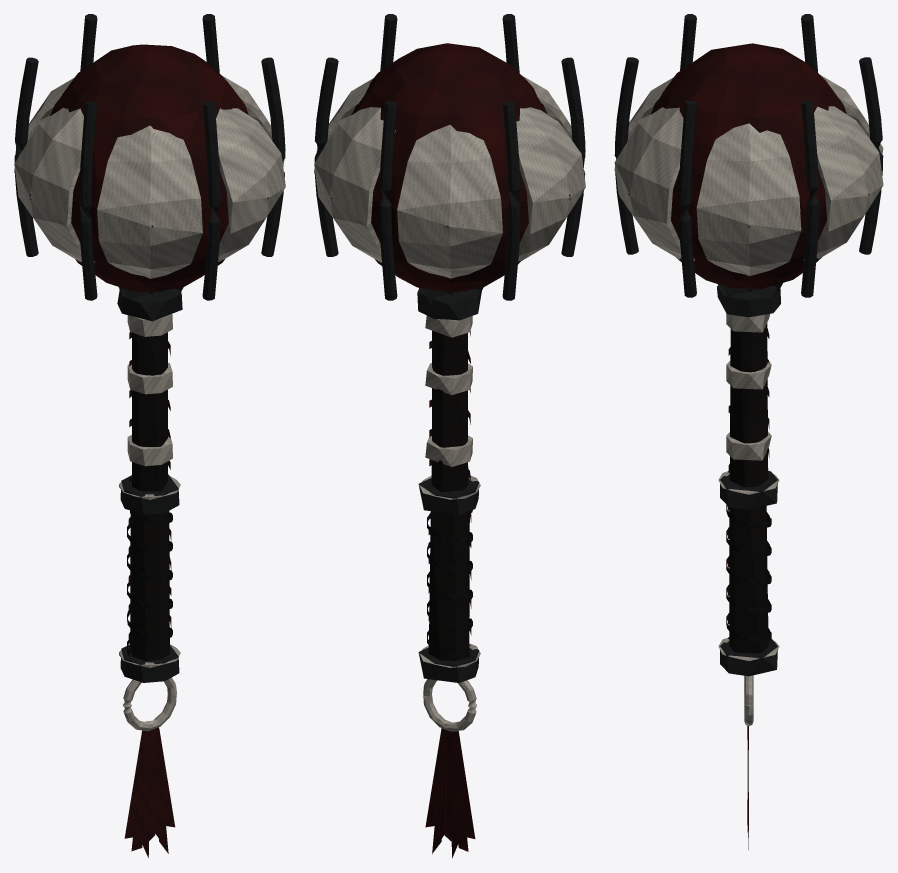
The model's file is missing-court-lotus-focus_lod1.glb.
3 views of the same model, side by side, from view 1: azimuth 30°, elevation 25°; view 2: azimuth 150°, elevation 25°; view 3: azimuth 270°, elevation 25° (orthographic).
Parts seen in each view (by area): view 1: Deep_red_crown_interior.001, Pale_forged_crown_leaf_4.001, Pale_forged_crown_leaf_5.001, Pale_forged_crown_leaf_3.001, Dark_grip.001, Long_focus_grip.001, Dark_external_crown_rib_3.001, Dark_external_crown_rib_4.001, Dark_external_crown_rib_2.001, Dark_external_crown_rib_5.001, Crossing_black_wrap.001, Lotus_throat.001 (+17 smaller); view 2: Deep_red_crown_interior.001, Pale_forged_crown_leaf_2.001, Pale_forged_crown_leaf_1.001, Pale_forged_crown_leaf_3.001, Dark_grip.001, Long_focus_grip.001, Dark_external_crown_rib_2.001, Dark_external_crown_rib_1.001, Dark_external_crown_rib_3.001, Dark_external_crown_rib_0.001, Crossing_black_wrap.001, Lotus_throat.001 (+17 smaller); view 3: Deep_red_crown_interior.001, Pale_forged_crown_leaf_0.001, Pale_forged_crown_leaf_1.001, Pale_forged_crown_leaf_5.001, Dark_grip.001, Long_focus_grip.001, Dark_external_crown_rib_5.001, Dark_external_crown_rib_0.001, Dark_external_crown_rib_4.001, Dark_external_crown_rib_1.001, Crossing_black_wrap.001, Lotus_throat.001 (+9 smaller).
Part boxes in pixels (x1=…): Deep_red_crown_interior.001: x1=50, y1=44, x2=248, y2=292; Pale_forged_crown_leaf_4.001: x1=97, y1=125, x2=202, y2=278; Pale_forged_crown_leaf_5.001: x1=216, y1=108, x2=285, y2=261; Pale_forged_crown_leaf_3.001: x1=14, y1=107, x2=94, y2=262; Dark_grip.001: x1=130, y1=511, x2=169, y2=660; Long_focus_grip.001: x1=132, y1=332, x2=167, y2=491; Dark_external_crown_rib_3.001: x1=79, y1=101, x2=97, y2=300; Dark_external_crown_rib_4.001: x1=202, y1=101, x2=220, y2=300; Dark_external_crown_rib_2.001: x1=14, y1=57, x2=38, y2=256; Dark_external_crown_rib_5.001: x1=261, y1=57, x2=285, y2=256; Crossing_black_wrap.001: x1=127, y1=510, x2=172, y2=656; Lotus_throat.001: x1=117, y1=288, x2=182, y2=321; Deep_red_crown_interior.001: x1=351, y1=43, x2=547, y2=292; Pale_forged_crown_leaf_2.001: x1=397, y1=124, x2=502, y2=278; Pale_forged_crown_leaf_1.001: x1=314, y1=107, x2=395, y2=262; Pale_forged_crown_leaf_3.001: x1=504, y1=107, x2=585, y2=261; Dark_grip.001: x1=428, y1=511, x2=469, y2=661; Long_focus_grip.001: x1=431, y1=330, x2=468, y2=513; Dark_external_crown_rib_2.001: x1=502, y1=101, x2=520, y2=300; Dark_external_crown_rib_1.001: x1=379, y1=101, x2=397, y2=300; Dark_external_crown_rib_3.001: x1=561, y1=57, x2=585, y2=256; Dark_external_crown_rib_0.001: x1=314, y1=57, x2=338, y2=256; Crossing_black_wrap.001: x1=427, y1=510, x2=472, y2=658; Lotus_throat.001: x1=417, y1=288, x2=481, y2=320; Deep_red_crown_interior.001: x1=651, y1=43, x2=846, y2=289; Pale_forged_crown_leaf_0.001: x1=696, y1=123, x2=801, y2=276; Pale_forged_crown_leaf_1.001: x1=803, y1=106, x2=883, y2=260; Pale_forged_crown_leaf_5.001: x1=614, y1=107, x2=694, y2=260; Dark_grip.001: x1=729, y1=506, x2=768, y2=653; Long_focus_grip.001: x1=729, y1=323, x2=768, y2=487; Dark_external_crown_rib_5.001: x1=678, y1=100, x2=696, y2=297; Dark_external_crown_rib_0.001: x1=801, y1=100, x2=819, y2=297; Dark_external_crown_rib_4.001: x1=614, y1=57, x2=638, y2=254; Dark_external_crown_rib_1.001: x1=859, y1=57, x2=883, y2=254; Crossing_black_wrap.001: x1=726, y1=504, x2=771, y2=642; Lotus_throat.001: x1=717, y1=284, x2=780, y2=317.
Bounding box in the file's own units: 0.3504 × 1.12 × 0.3429.
4 materials, 4 textured.
